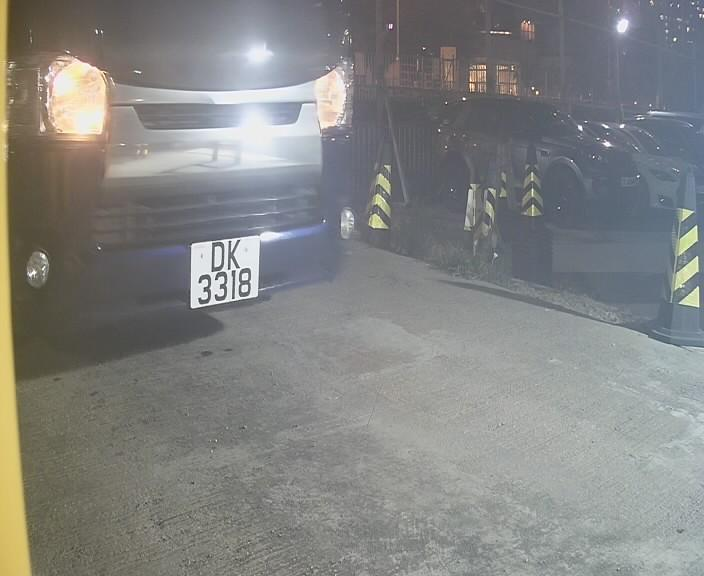privatecar: (1, 1, 375, 381)
